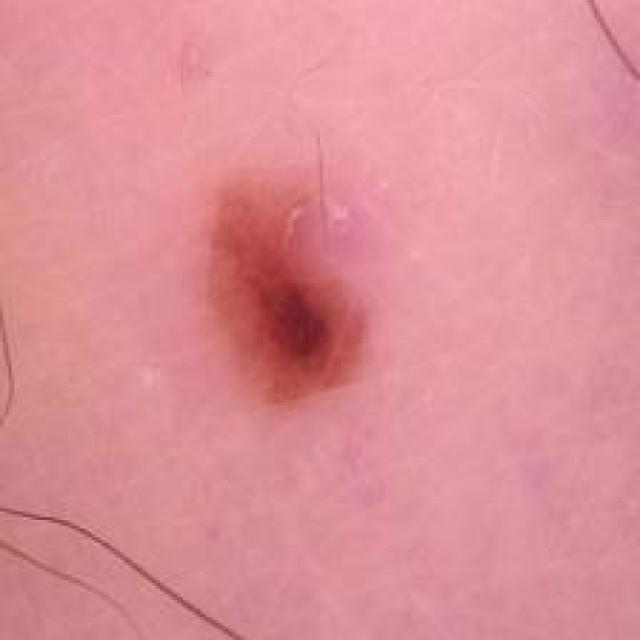Cancer: (206, 165, 393, 426)
